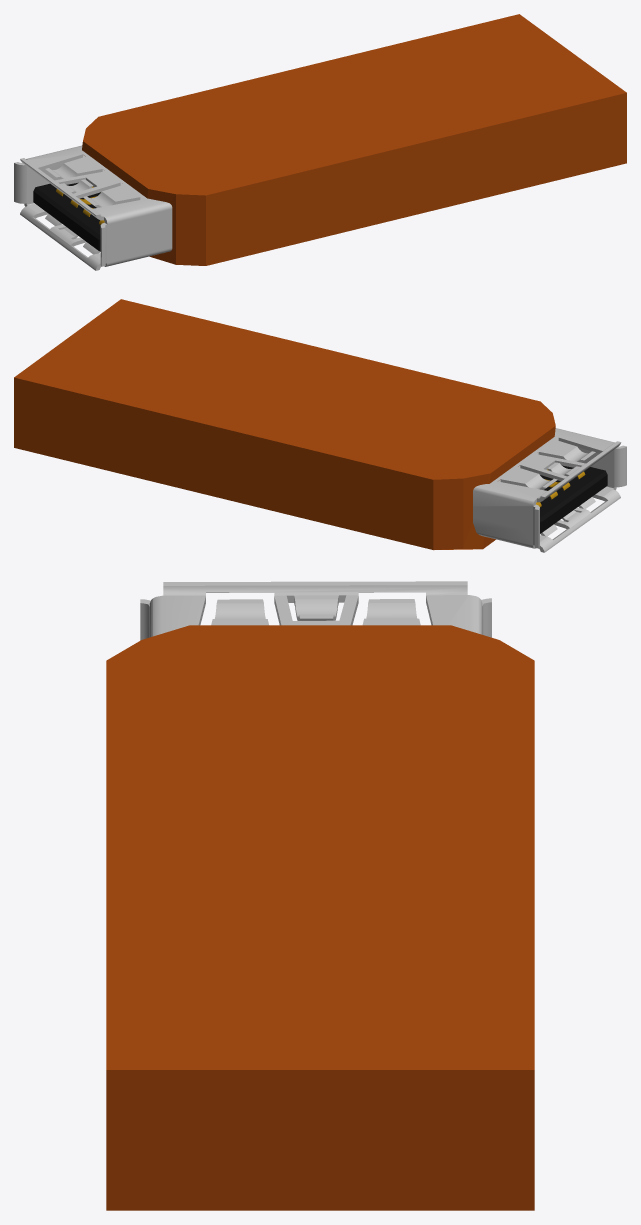
The model's file is flash.fbx.
3 renders of one model, top to bottom at view 1: azimuth 30°, elevation 25°; view 2: azimuth 150°, elevation 25°; view 3: azimuth 270°, elevation 25°, orthographic. The views are drawn at different scales.
Visible parts, largest first — view 1: Box001, usb [126777]002; view 2: Box001, usb [126777]002; view 3: Box001, usb [126777]002.
Boxes of the visible parts, <box> form: Box001: <box>82,14,626,265</box>; usb [126777]002: <box>14,145,172,270</box>; Box001: <box>14,299,555,550</box>; usb [126777]002: <box>473,428,626,552</box>; Box001: <box>106,625,534,1210</box>; usb [126777]002: <box>140,581,491,640</box>.
Bounding box in the file's own units: 0.0655 × 0.00855 × 0.0236.
